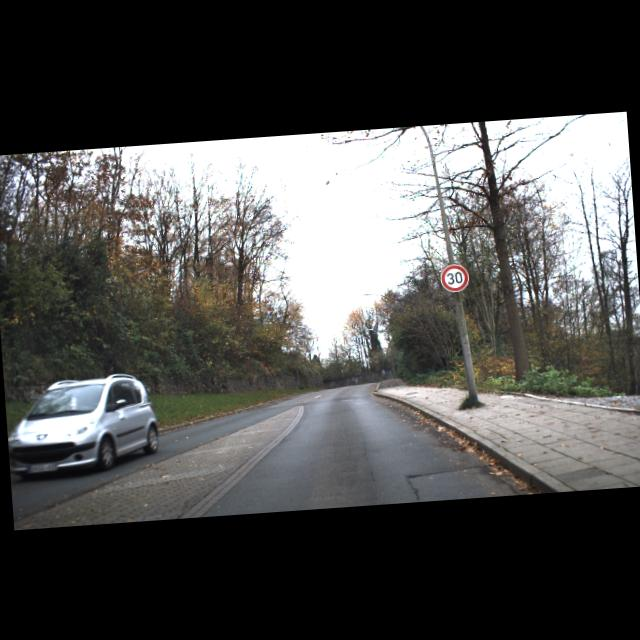prohibitory: (439, 261, 470, 292)
